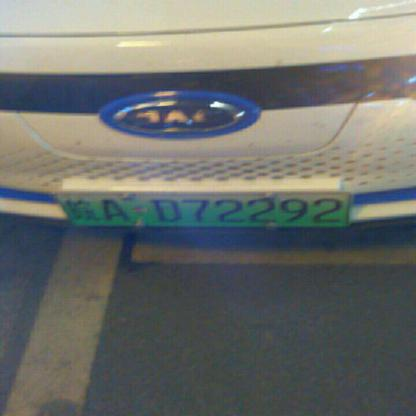lp: (55, 193, 75, 227)
